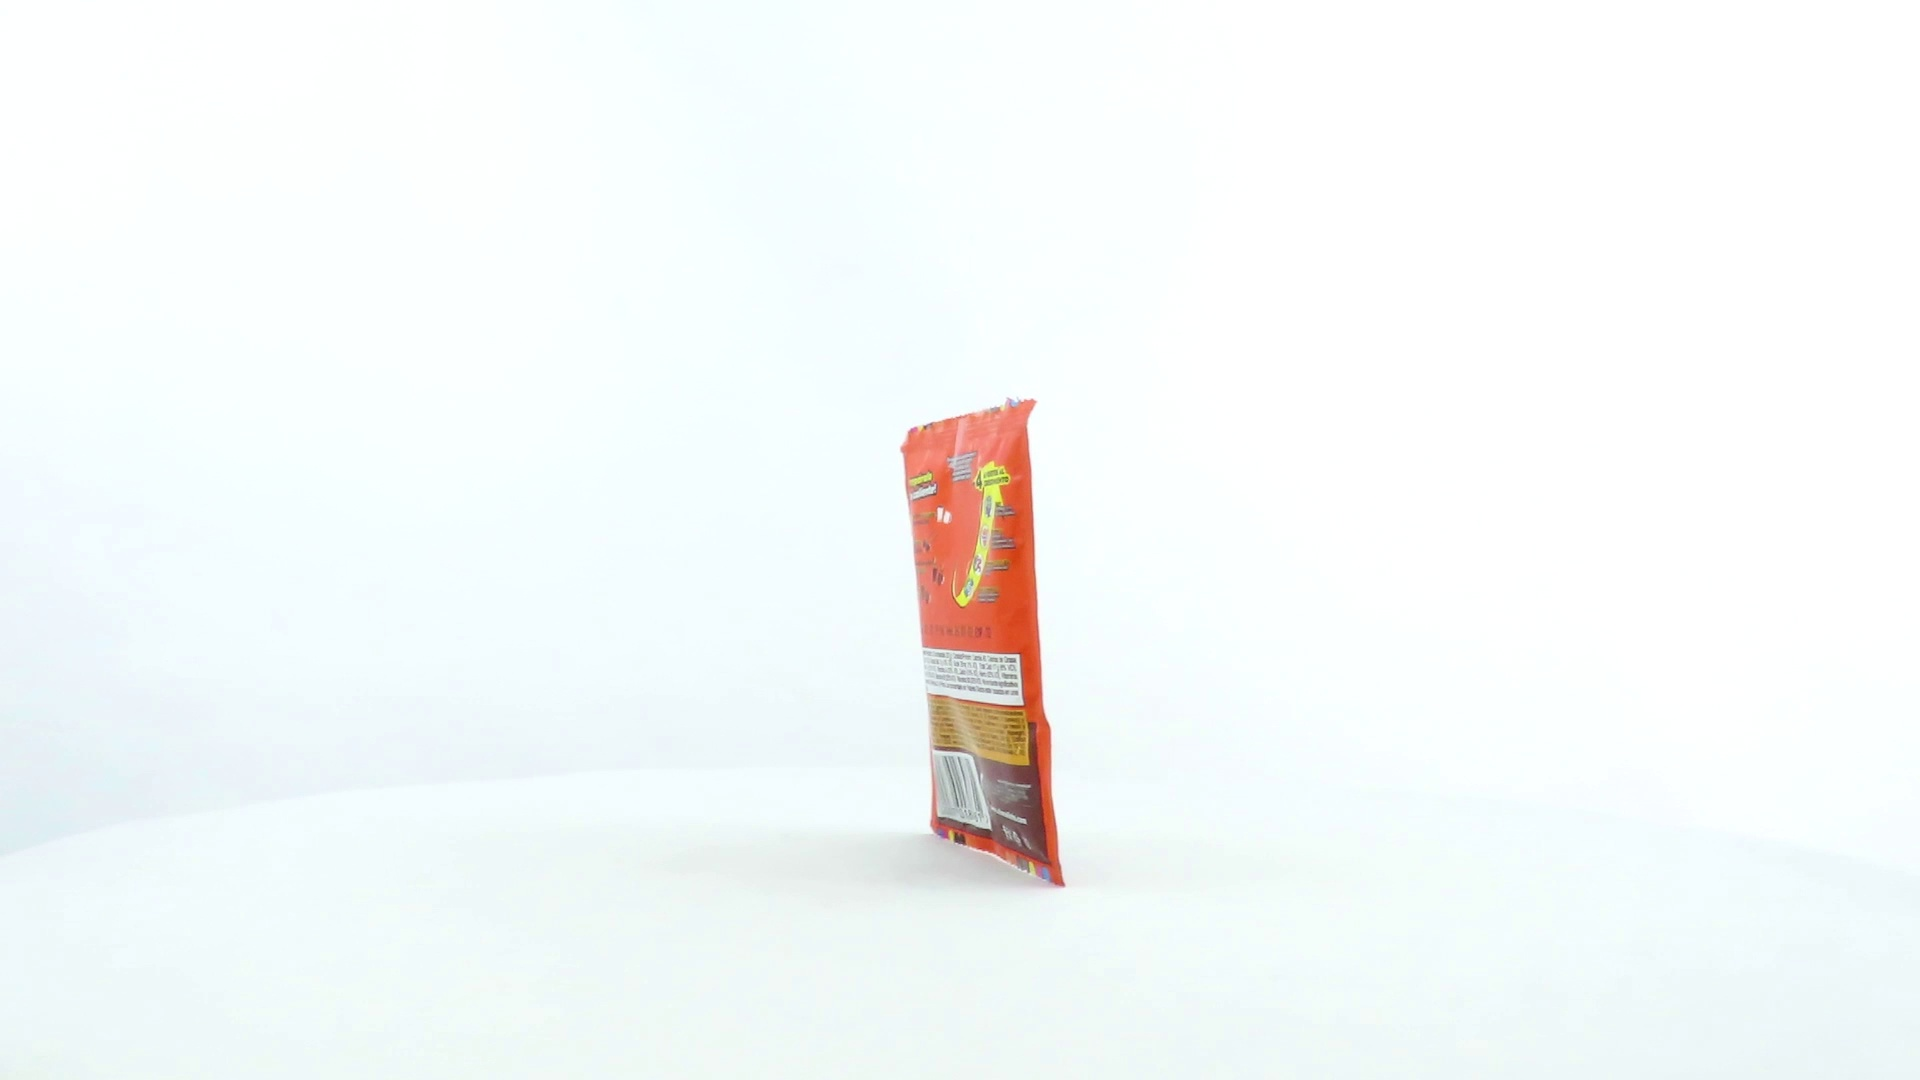COL0170103SOB02000: (895, 392, 1071, 894)
